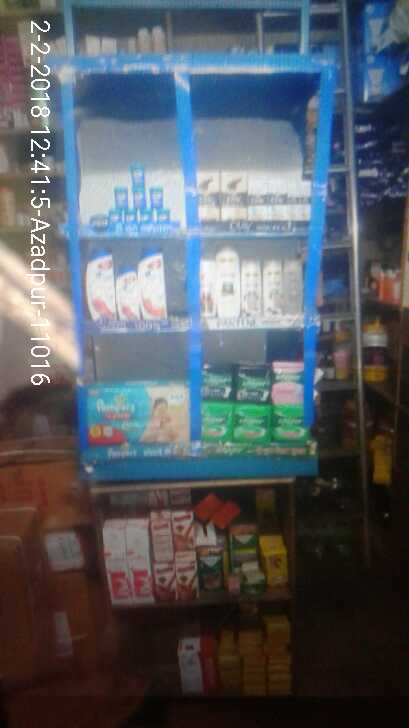vicks: (103, 155, 185, 233)
